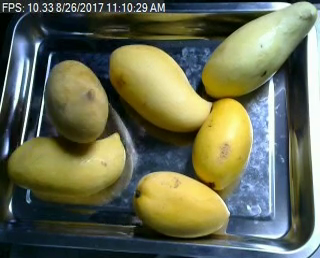Mango: (201, 3, 318, 98), (107, 41, 214, 136), (5, 134, 130, 200), (134, 167, 231, 240), (190, 97, 254, 191), (41, 56, 108, 143)
